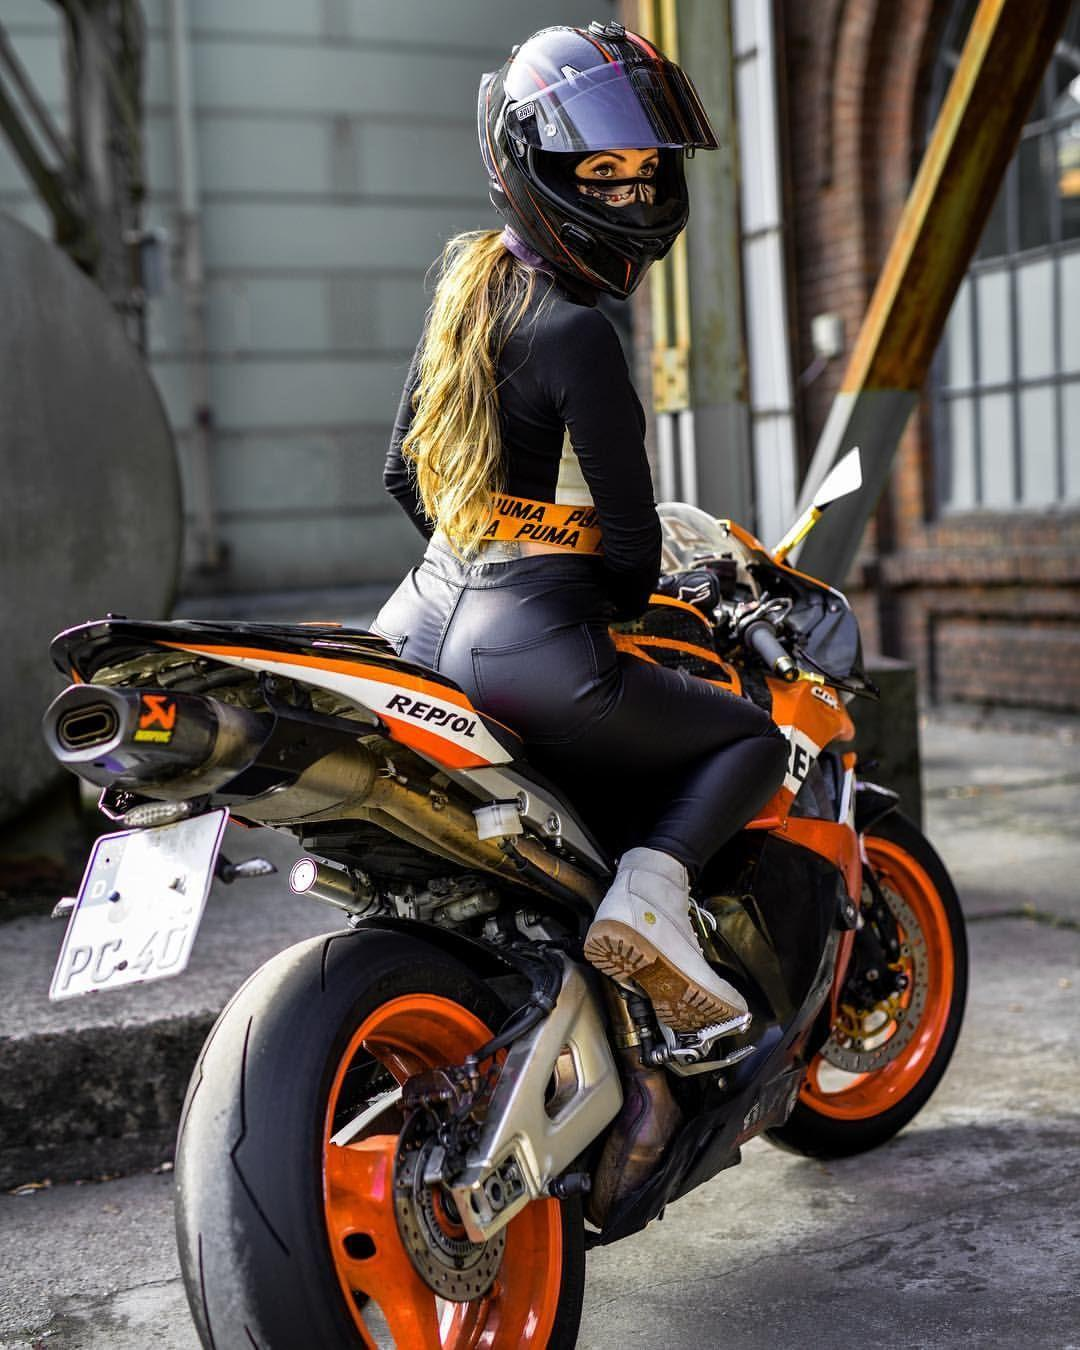Motorcycle: (68, 516, 976, 1314)
